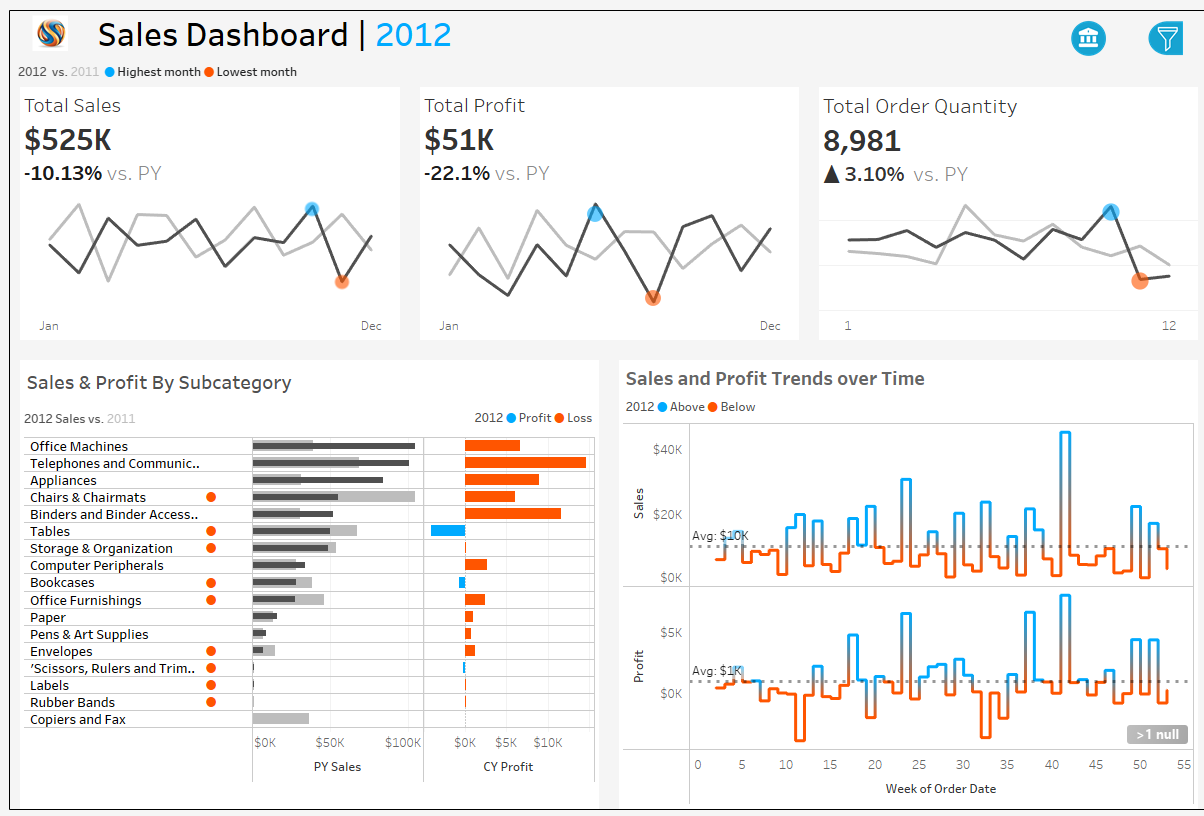

The page's visual inventory and layout, read from the dashboard file:
{"tool":"tableau","page":{"name":"Sales Dashboard","canvas":[1200,800],"ordinal":0},"visuals":[{"type":"image","param":"C:/Users/alish/OneDrive/Desktop/Sales Dashboard Materials/Dashboard Icons/ss.jpg","box":[1,1,81,44]},{"type":"text","box":[82,1,1117,44]},{"type":"dashboard-object","box":[1041,6,77,44]},{"type":"dashboard-object","box":[1118,6,76,44]},{"type":"blank","box":[985,10,206,49]},{"type":"worksheet","title":"Legend of KPI","mark":"Automatic","box":[1,45,1198,32]},{"type":"text","box":[985,59,206,34]},{"type":"worksheet","title":"KPI Sales","mark":"Automatic","rows":["Calculation_1166150847006642181"],"cols":["Order_Date"],"box":[1,77,400,263]},{"type":"worksheet","title":"KPI Profits","mark":"Automatic","rows":["Calculation_1041457432656470018"],"cols":["Order_Date"],"box":[401,77,399,263]},{"type":"worksheet","title":"KPI Quantity","mark":"Automatic","rows":["Calculation_1041457432682541071"],"cols":["Order_Date"],"box":[800,77,399,263]},{"type":"parameter","param":"[Parameters].[Parameter 1]","box":[985,93,206,52]},{"type":"text","box":[985,145,206,29]},{"type":"filter","title":"KPI Sales","param":"[federated.0i0qzm20h5muu413i1t4a04w9ttl].[none:Product_Category:nk]","box":[985,174,206,52]},{"type":"filter","title":"KPI Sales","param":"[federated.0i0qzm20h5muu413i1t4a04w9ttl].[none:Product_Sub-Category:nk]","box":[985,226,206,52]},{"type":"blank","box":[985,278,206,52]},{"type":"text","box":[985,330,206,29]},{"type":"text","box":[11,350,579,42]},{"type":"text","box":[610,350,579,34]},{"type":"filter","title":"KPI Sales","param":"[federated.0i0qzm20h5muu413i1t4a04w9ttl].[none:Region:nk]","box":[985,359,206,52]},{"type":"text","box":[610,384,579,25]},{"type":"worksheet","title":"Legend of Subcategory","mark":"Automatic","box":[11,392,290,31]},{"type":"text","box":[301,392,289,31]},{"type":"worksheet","title":"Weekly Trends","mark":"Automatic","rows":["Calculation_1166150846998634496","Calculation_1041457432654012416"],"cols":["Order_Date"],"box":[610,409,579,390]},{"type":"filter","title":"KPI Sales","param":"[federated.0i0qzm20h5muu413i1t4a04w9ttl].[none:State:nk]","box":[985,411,206,52]},{"type":"worksheet","title":"SubCategory Comparison","mark":"Bar","rows":["Product_Sub-Category","Calculation_1041457432703741977"],"cols":["CY Sales (copy)_1166150846999126018","Calculation_1166150846998634496","Calculation_1041457432654012416"],"box":[11,423,579,354]}]}

Visuals, with their boxes in screenshot pixels (x1, y1, x2, y2), scaled from the page's 1200x800 canvas onto the 1204x816 screenshot:
image: <bbox>1, 1, 82, 46</bbox>
text: <bbox>82, 1, 1203, 46</bbox>
dashboard-object: <bbox>1044, 6, 1122, 51</bbox>
dashboard-object: <bbox>1122, 6, 1198, 51</bbox>
blank: <bbox>988, 10, 1195, 60</bbox>
"Legend of KPI" worksheet: <bbox>1, 46, 1203, 79</bbox>
text: <bbox>988, 60, 1195, 95</bbox>
"KPI Sales" worksheet: <bbox>1, 79, 402, 347</bbox>
"KPI Profits" worksheet: <bbox>402, 79, 803, 347</bbox>
"KPI Quantity" worksheet: <bbox>803, 79, 1203, 347</bbox>
parameter: <bbox>988, 95, 1195, 148</bbox>
text: <bbox>988, 148, 1195, 177</bbox>
"KPI Sales" filter: <bbox>988, 177, 1195, 231</bbox>
"KPI Sales" filter: <bbox>988, 231, 1195, 284</bbox>
blank: <bbox>988, 284, 1195, 337</bbox>
text: <bbox>988, 337, 1195, 366</bbox>
text: <bbox>11, 357, 592, 400</bbox>
text: <bbox>612, 357, 1193, 392</bbox>
"KPI Sales" filter: <bbox>988, 366, 1195, 419</bbox>
text: <bbox>612, 392, 1193, 417</bbox>
"Legend of Subcategory" worksheet: <bbox>11, 400, 302, 431</bbox>
text: <bbox>302, 400, 592, 431</bbox>
"Weekly Trends" worksheet: <bbox>612, 417, 1193, 815</bbox>
"KPI Sales" filter: <bbox>988, 419, 1195, 472</bbox>
"SubCategory Comparison" worksheet (Bar marks): <bbox>11, 431, 592, 793</bbox>
